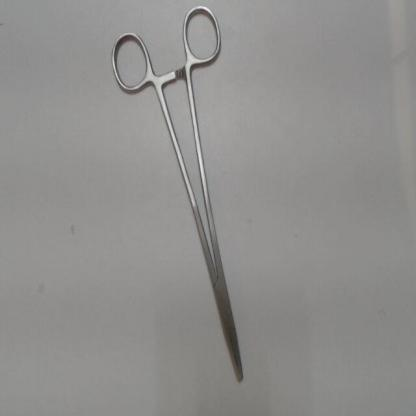8 Mayo Needle Holder: (103, 3, 254, 392)
